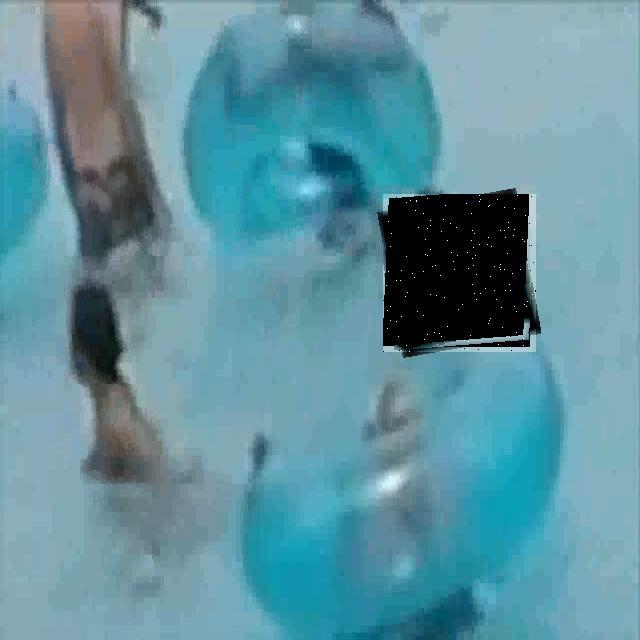Out of Water: (383, 194, 536, 352)
